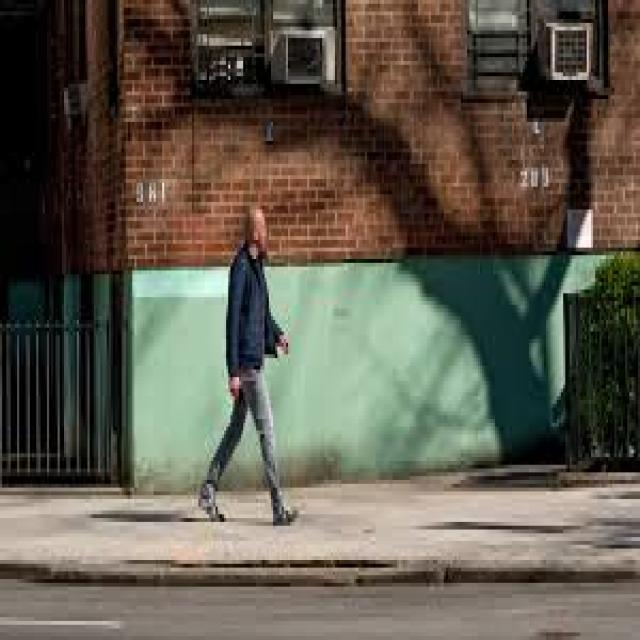nonfall: (200, 192, 303, 530)
